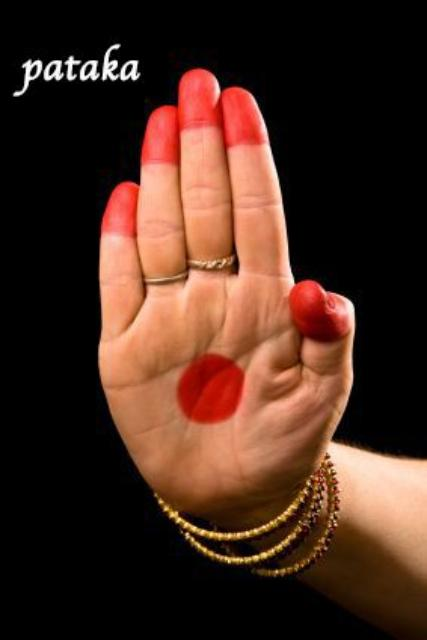pataka: (95, 69, 427, 640)
